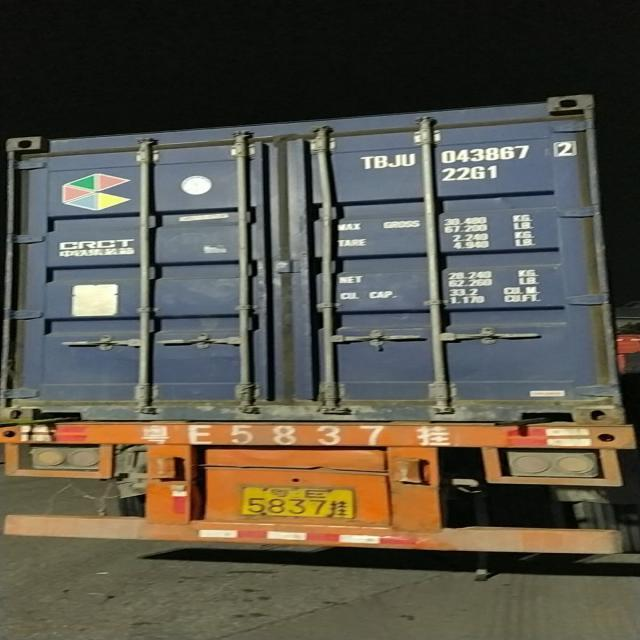ISO: (444, 163, 501, 186)
container_number: (362, 140, 581, 166)
